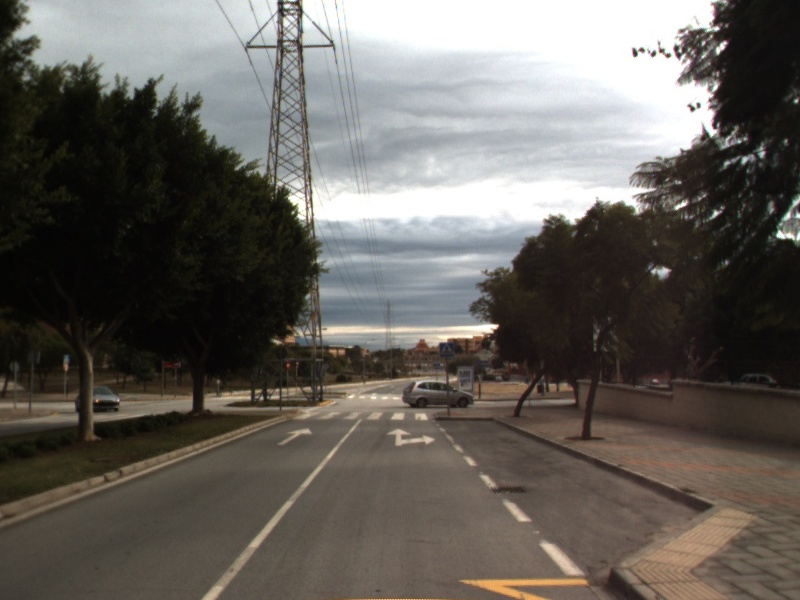STRAIGHT: (274, 425, 315, 447)
STRAIGHT_RIGHT: (385, 426, 437, 448)
